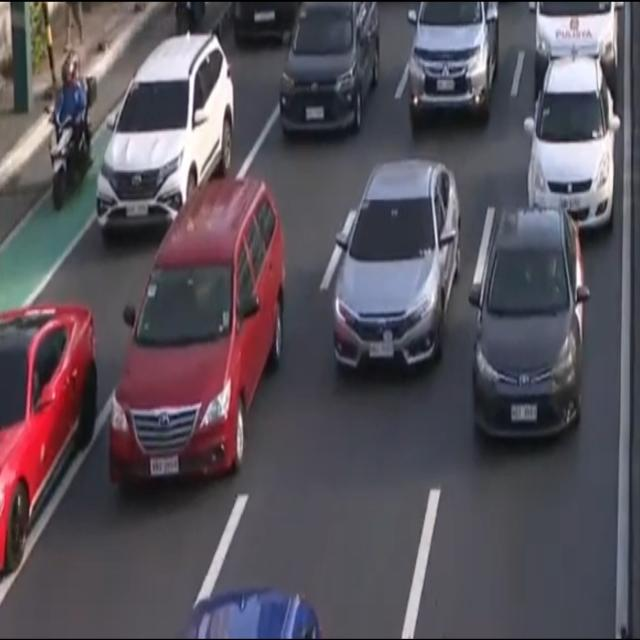Motorcycle: (43, 38, 98, 222)
SUV: (103, 168, 291, 502), (93, 31, 238, 244), (520, 50, 622, 234), (403, 0, 508, 135)
Sedan: (328, 152, 465, 388), (467, 205, 589, 447), (0, 293, 100, 583), (276, 0, 384, 149)
Van: (531, 0, 627, 96)
